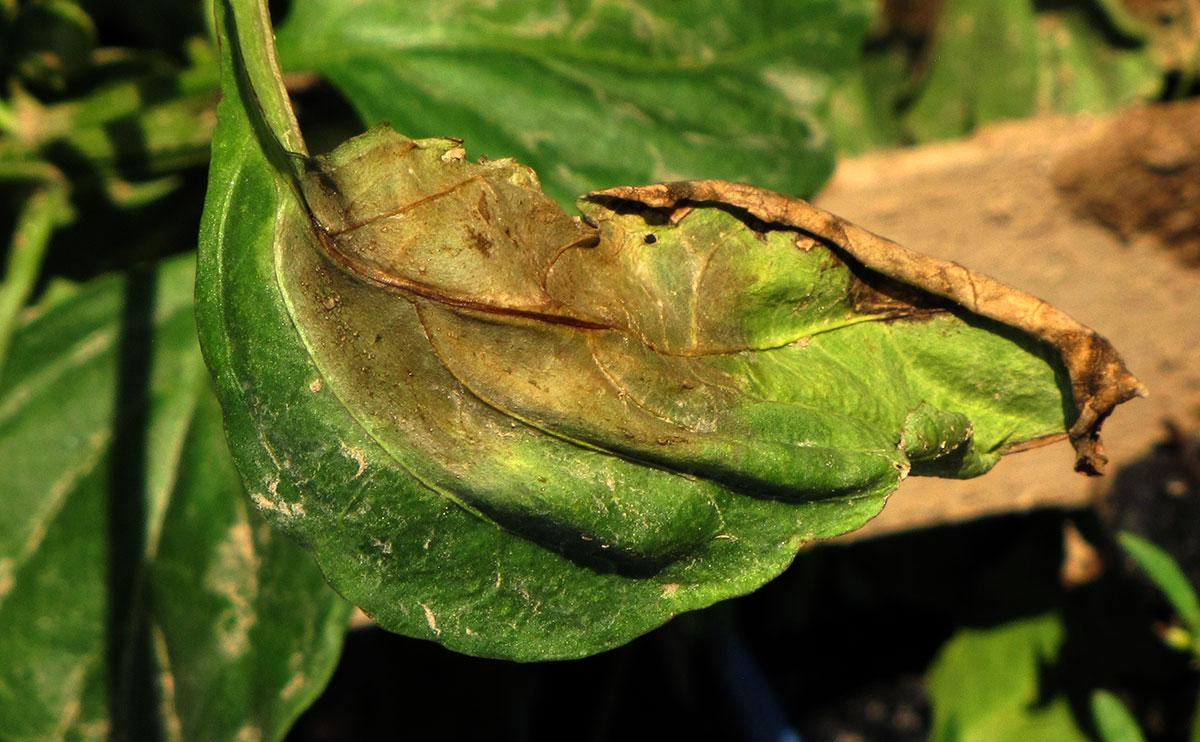Bell_pepper leaf: (188, 71, 1147, 682)
